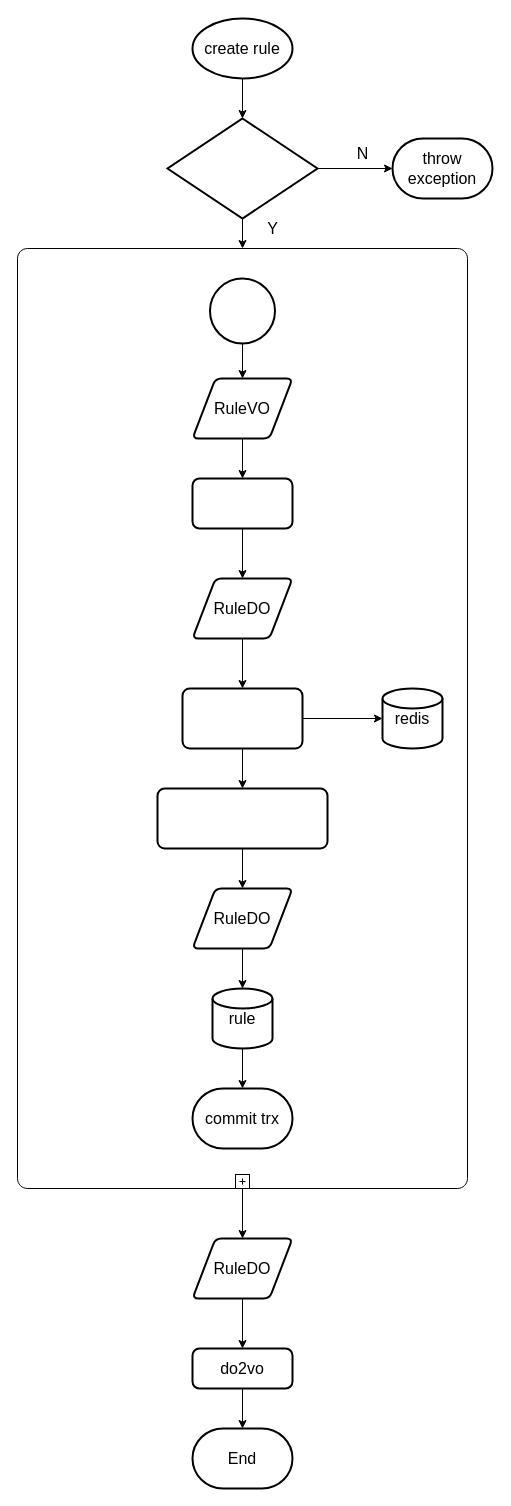
Some shapes in this 511 by 1506 pixel diagram are drawn without their labels. The shapes that lost their labels are listed below. From the top down, each one's centre as x and y in pixels, then its label:
At point 242,168: "data validate".
At point 242,310: "begin trx".
At point 242,503: "vo2do".
At point 242,718: "fetch and persist user group bitmap".
At point 242,818: "generate groovy text".
